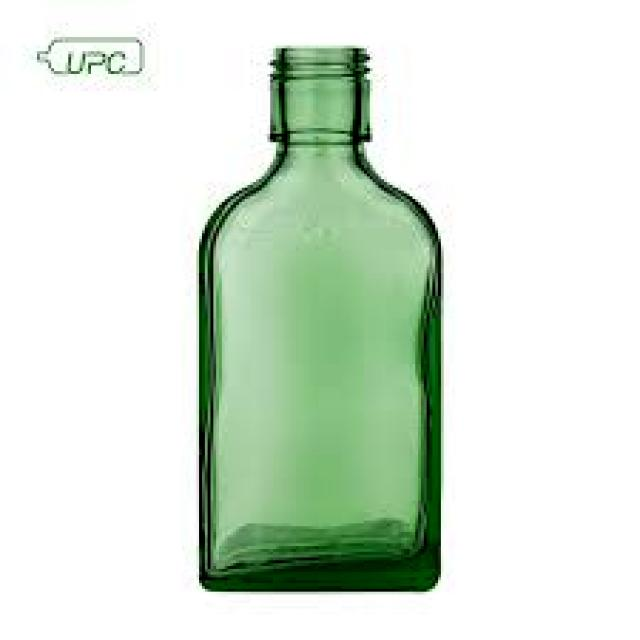Glass: (194, 41, 448, 595)
